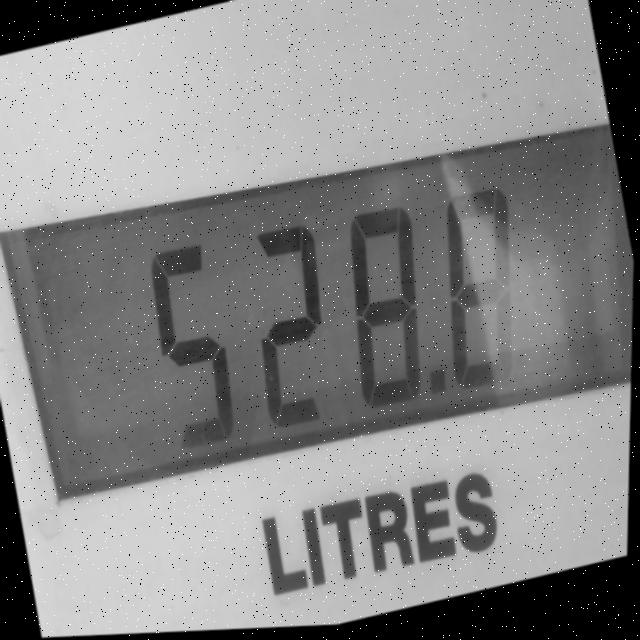.: (427, 369, 449, 404)
2: (240, 223, 346, 434)
5: (142, 246, 248, 455)
8: (425, 196, 542, 407), (332, 208, 440, 416)
